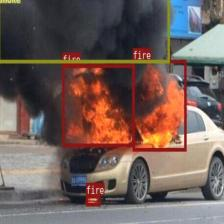fire: (62, 64, 134, 146), (132, 59, 186, 151), (85, 194, 100, 205)
smoke: (0, 0, 169, 62)
